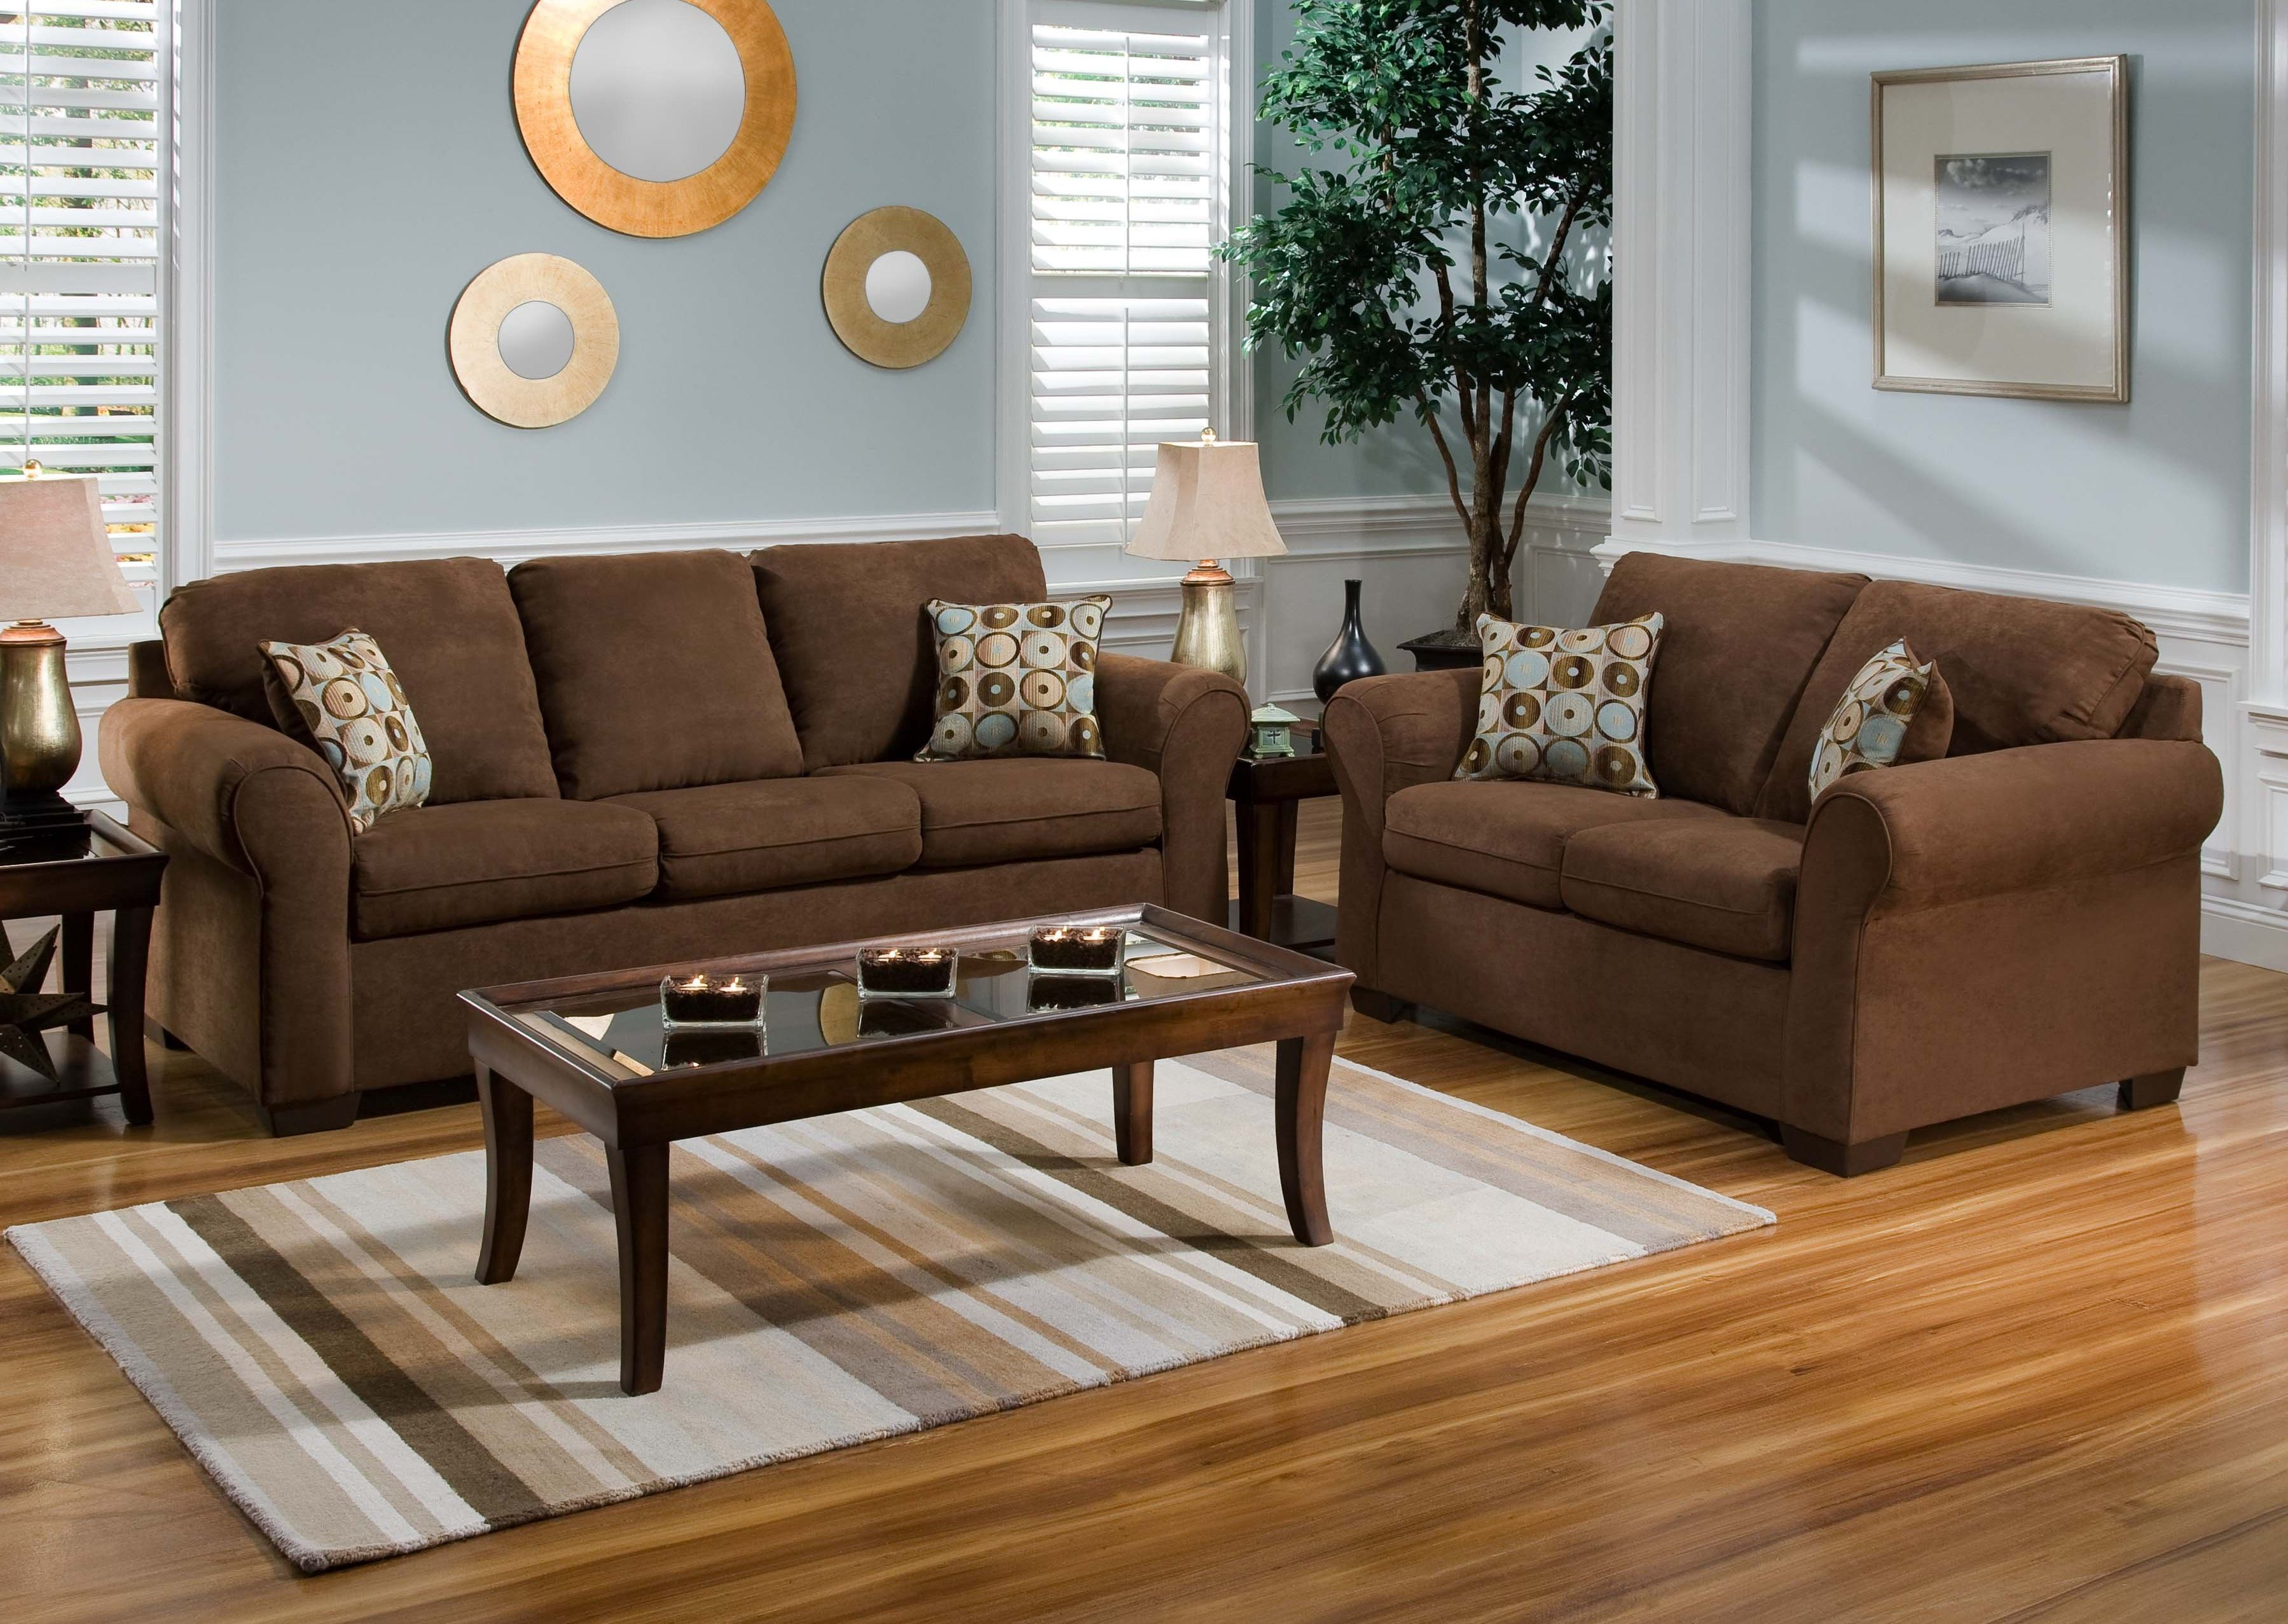chairs: (104, 529, 1265, 1132), (1336, 504, 2212, 1192)
